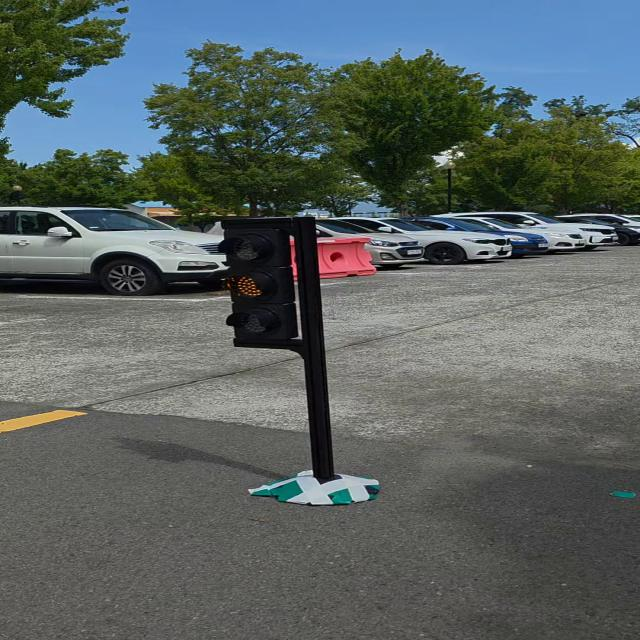yellow: (218, 216, 305, 350)
